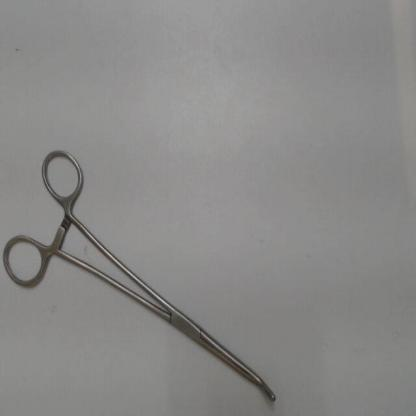Lahey Forceps: (0, 142, 281, 406)
